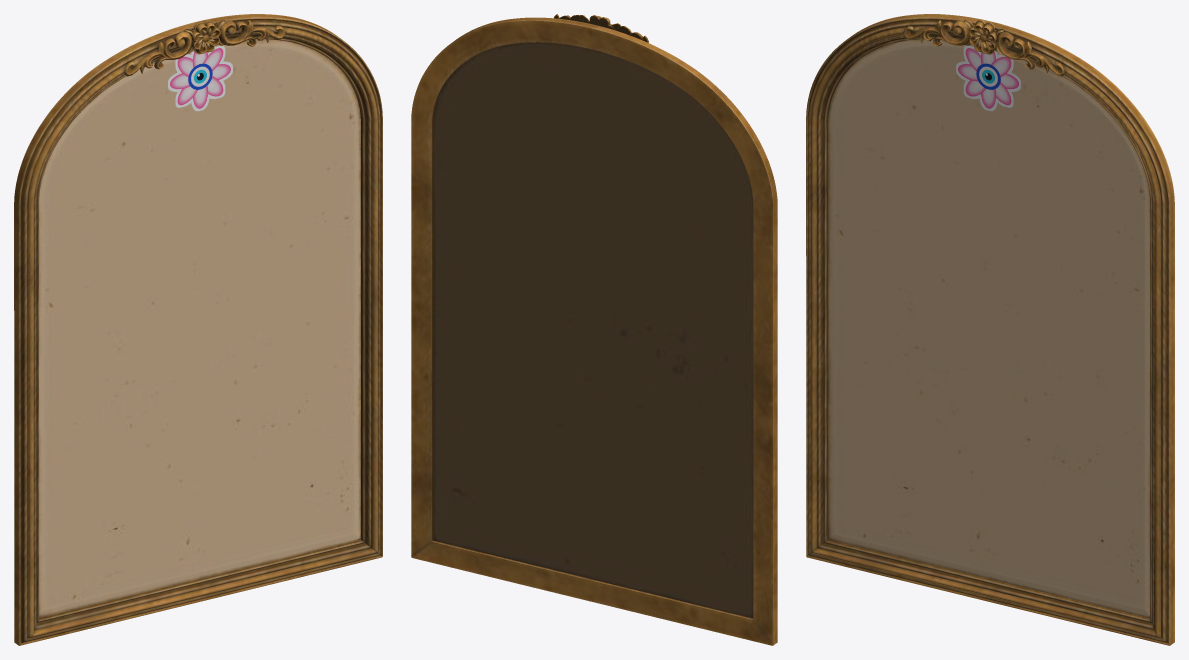
Rendered from nyb_bigbusiness_mirror.glb.
3 views of the same model, side by side, from view 1: azimuth 30°, elevation 25°; view 2: azimuth 150°, elevation 25°; view 3: azimuth 330°, elevation 25° (orthographic).
Parts seen in each view (by area): view 1: ornate_mirror_01, stk_eyeflower_die.png; view 2: ornate_mirror_01; view 3: ornate_mirror_01, stk_eyeflower_die.png.
Boxes of the visible parts, left/top/right/bottom form: ornate_mirror_01: left=14, top=14, right=382, bottom=645; stk_eyeflower_die.png: left=167, top=45, right=232, bottom=111; ornate_mirror_01: left=411, top=14, right=777, bottom=645; ornate_mirror_01: left=806, top=14, right=1174, bottom=645; stk_eyeflower_die.png: left=956, top=45, right=1021, bottom=111.
Bounding box in the file's own units: 0.4865 × 0.7442 × 0.0268.
Materials: 2 (2 with a texture image).
